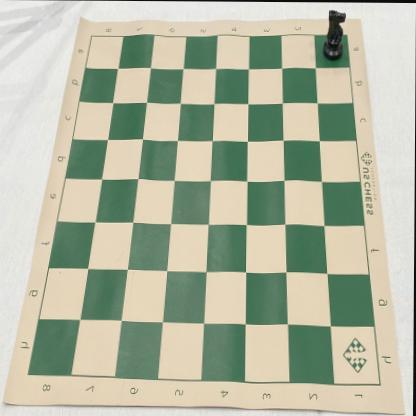black-knight: (322, 9, 346, 60)
